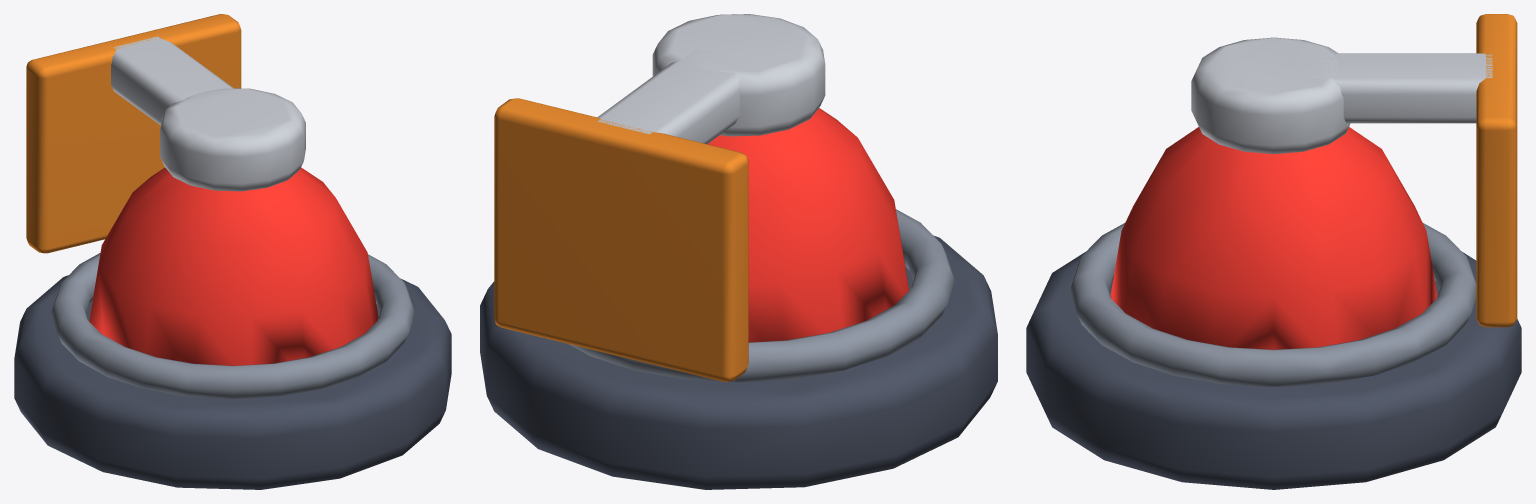
Rendered from Fx_Alarm.glb.
The picture shows the model from 3 angles, left to right: view 1: azimuth 30°, elevation 25°; view 2: azimuth 150°, elevation 25°; view 3: azimuth 270°, elevation 25°; orthographic projection. The views are drawn at different scales.
Visible parts, largest first — view 1: Fx_Alarm.Lamp_Red, Fx_Alarm.Base, Fx_Alarm.Move_Shade, Fx_Alarm.Cage; view 2: Fx_Alarm.Move_Shade, Fx_Alarm.Base, Fx_Alarm.Lamp_Red, Fx_Alarm.Cage; view 3: Fx_Alarm.Lamp_Red, Fx_Alarm.Base, Fx_Alarm.Move_Shade, Fx_Alarm.Cage.
Boxes of the visible parts, x1,y1,x2,y2 form: Fx_Alarm.Lamp_Red: [89, 167, 378, 365]; Fx_Alarm.Base: [14, 275, 451, 489]; Fx_Alarm.Move_Shade: [26, 14, 305, 253]; Fx_Alarm.Cage: [51, 253, 414, 398]; Fx_Alarm.Move_Shade: [494, 14, 825, 381]; Fx_Alarm.Base: [480, 235, 997, 489]; Fx_Alarm.Lamp_Red: [707, 108, 909, 342]; Fx_Alarm.Cage: [568, 209, 954, 382]; Fx_Alarm.Lamp_Red: [1110, 127, 1437, 349]; Fx_Alarm.Base: [1026, 252, 1521, 489]; Fx_Alarm.Move_Shade: [1191, 14, 1517, 327]; Fx_Alarm.Cage: [1069, 223, 1476, 386].
Bounding box in the file's own units: 0.3 × 0.22 × 0.3.
Materials: 1 (1 with a texture image).
